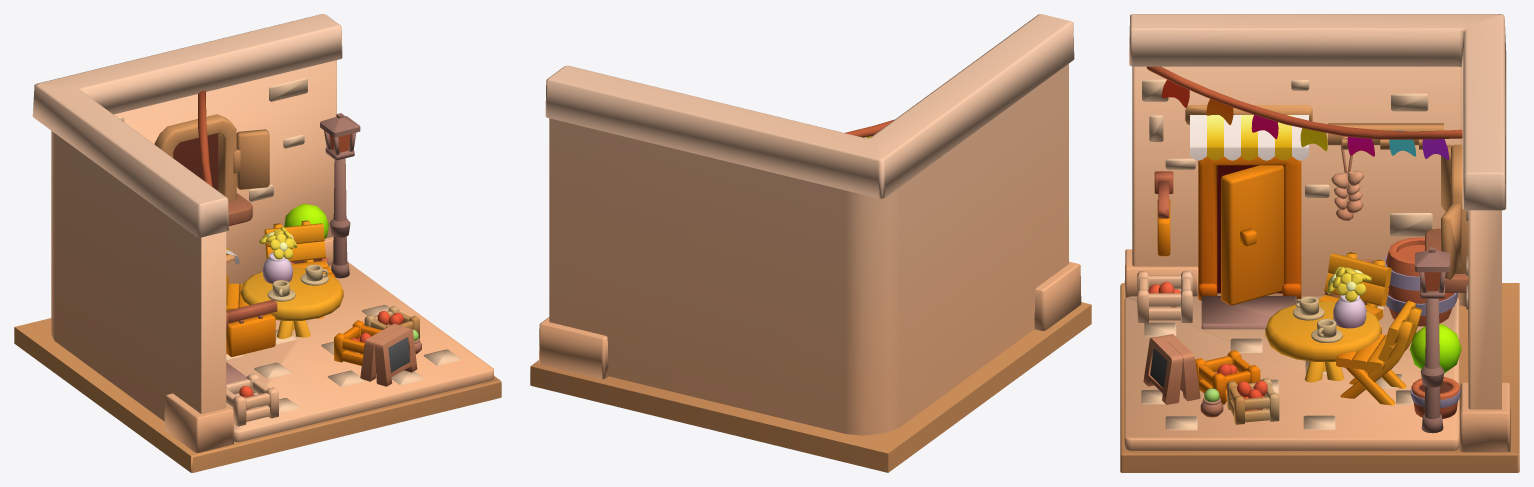
File: cafe.fbx
3 renders of one model, left to right at view 1: azimuth 30°, elevation 25°; view 2: azimuth 150°, elevation 25°; view 3: azimuth 270°, elevation 25°, orthographic. The views are drawn at different scales.
Visible parts, largest first — view 1: Base.010, Base.002, Base.007, Base.012, Base.009, Base.001, Base.011; view 2: Base.010; view 3: Base.010, Base.012, Base.002, Base.009, Base.001, Base.011, Base.004, Base.007.
Part boxes in pixels (x1,y1,x2,y2): Base.010: (14, 14, 501, 472); Base.002: (226, 220, 343, 339); Base.007: (154, 114, 269, 225); Base.012: (226, 248, 278, 426); Base.009: (334, 306, 421, 386); Base.001: (284, 113, 360, 278); Base.011: (198, 90, 212, 186); Base.010: (530, 14, 1091, 472); Base.010: (1120, 14, 1519, 472); Base.012: (1137, 115, 1308, 329); Base.002: (1265, 252, 1421, 405); Base.009: (1143, 334, 1279, 424); Base.001: (1409, 247, 1461, 433); Base.011: (1146, 66, 1462, 159); Base.004: (1324, 123, 1457, 326); Base.007: (1425, 144, 1468, 292).
Bounding box in the file's own units: 1638 × 1320 × 1617.
